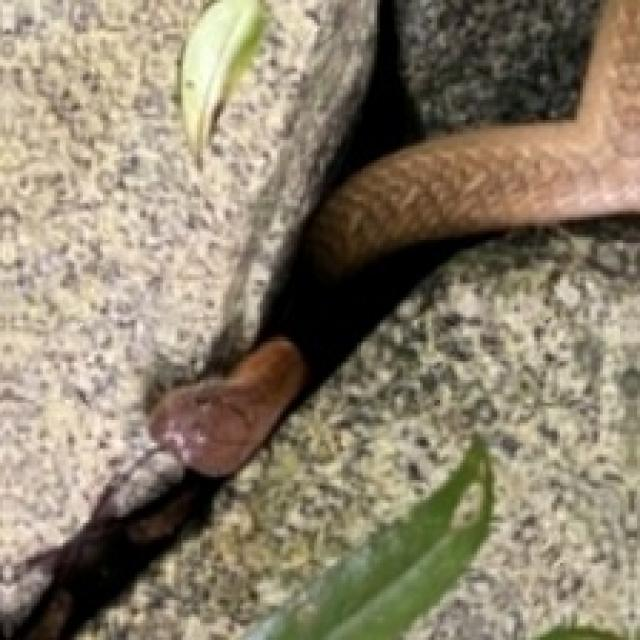king cobra: (77, 223, 637, 637), (0, 0, 374, 609), (397, 0, 594, 134)
